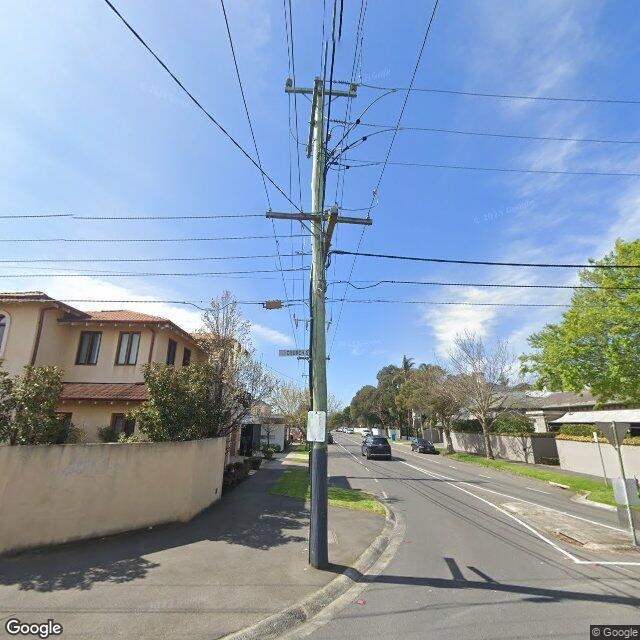HV-transmission: (284, 78, 358, 98)
crossarm: (266, 208, 373, 226), (306, 80, 320, 158), (322, 208, 338, 265), (285, 87, 357, 97)
timber-pole: (309, 94, 329, 570)
